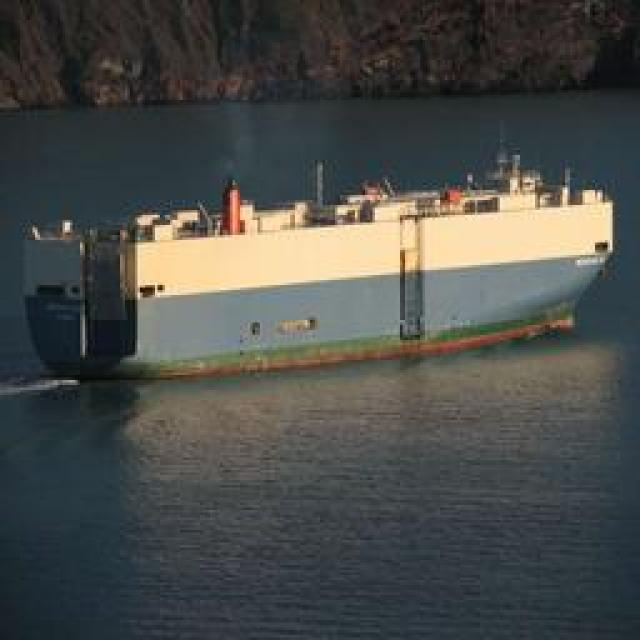CIV_Ship: (22, 154, 620, 384)
